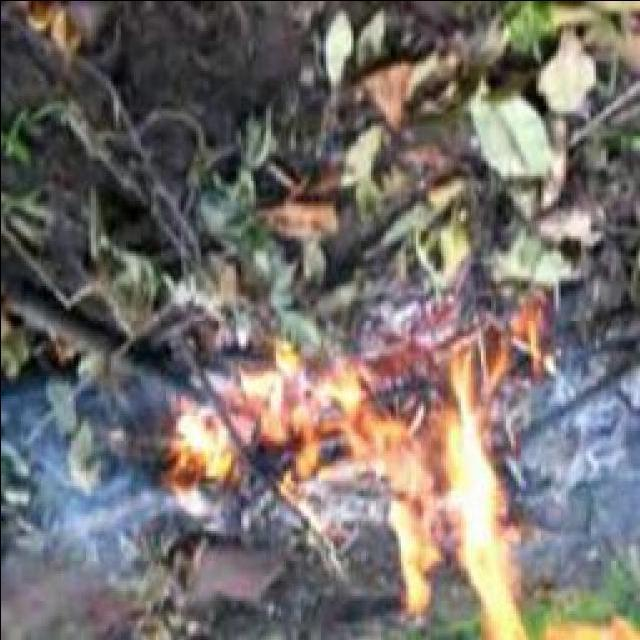Fire: (386, 350, 533, 634), (185, 364, 456, 483)
